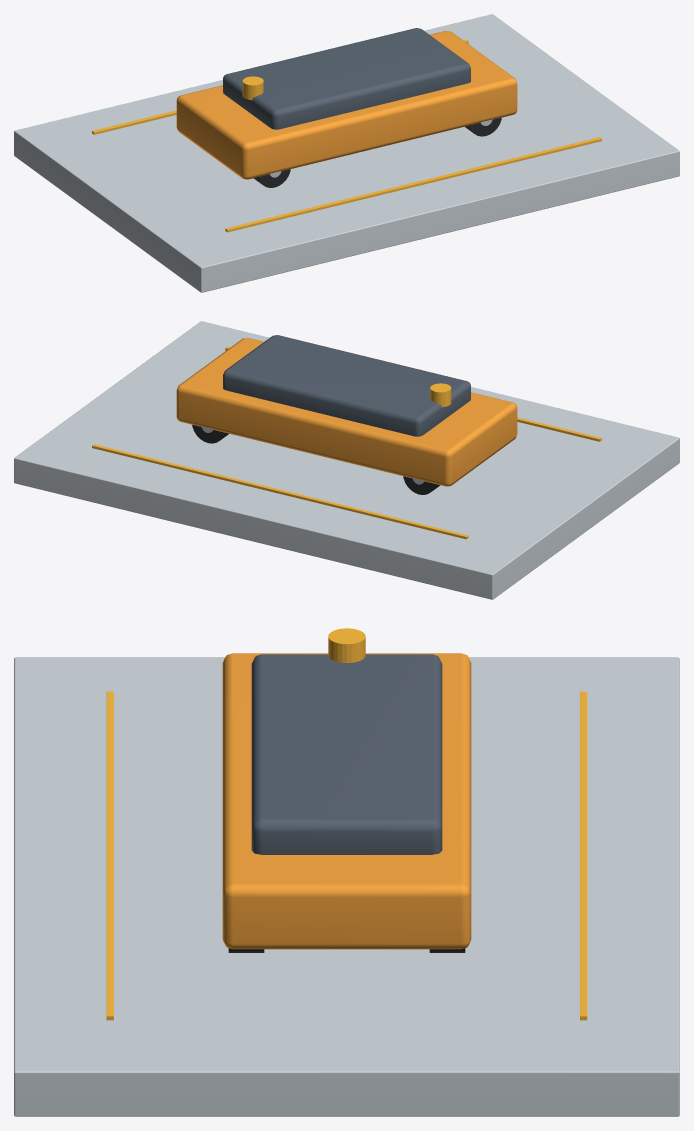
3 renders of one model, top to bottom at view 1: azimuth 30°, elevation 25°; view 2: azimuth 150°, elevation 25°; view 3: azimuth 270°, elevation 25°, orthographic. The views are drawn at different scales.
Visible parts, largest first — view 1: Ground plane, Autonomous platform, Top load interface, Concept clearance guide, E-stop button, Concept clearance guide.001; view 2: Ground plane, Autonomous platform, Top load interface, Concept clearance guide.001, E-stop button, Concept clearance guide; view 3: Ground plane, Top load interface, Autonomous platform, Concept clearance guide, Concept clearance guide.001, E-stop button.
Boxes of the visible parts, bbox=[...] form: Ground plane: bbox=[14, 14, 679, 292]; Autonomous platform: bbox=[176, 31, 517, 179]; Top load interface: bbox=[223, 28, 470, 129]; Concept clearance guide: bbox=[225, 137, 601, 232]; E-stop button: bbox=[242, 76, 263, 100]; Concept clearance guide.001: bbox=[92, 39, 468, 134]; Ground plane: bbox=[14, 321, 679, 599]; Autonomous platform: bbox=[176, 338, 517, 486]; Top load interface: bbox=[223, 335, 470, 436]; Concept clearance guide.001: bbox=[92, 444, 468, 539]; E-stop button: bbox=[430, 383, 451, 407]; Concept clearance guide: bbox=[225, 346, 601, 441]; Ground plane: bbox=[14, 657, 679, 1116]; Top load interface: bbox=[251, 654, 442, 854]; Autonomous platform: bbox=[222, 653, 471, 949]; Concept clearance guide: bbox=[106, 691, 113, 1020]; Concept clearance guide.001: bbox=[580, 691, 587, 1020]; E-stop button: bbox=[328, 628, 365, 662].
Size of the model in its own units: 2.35 by 0.5082 by 1.6.
